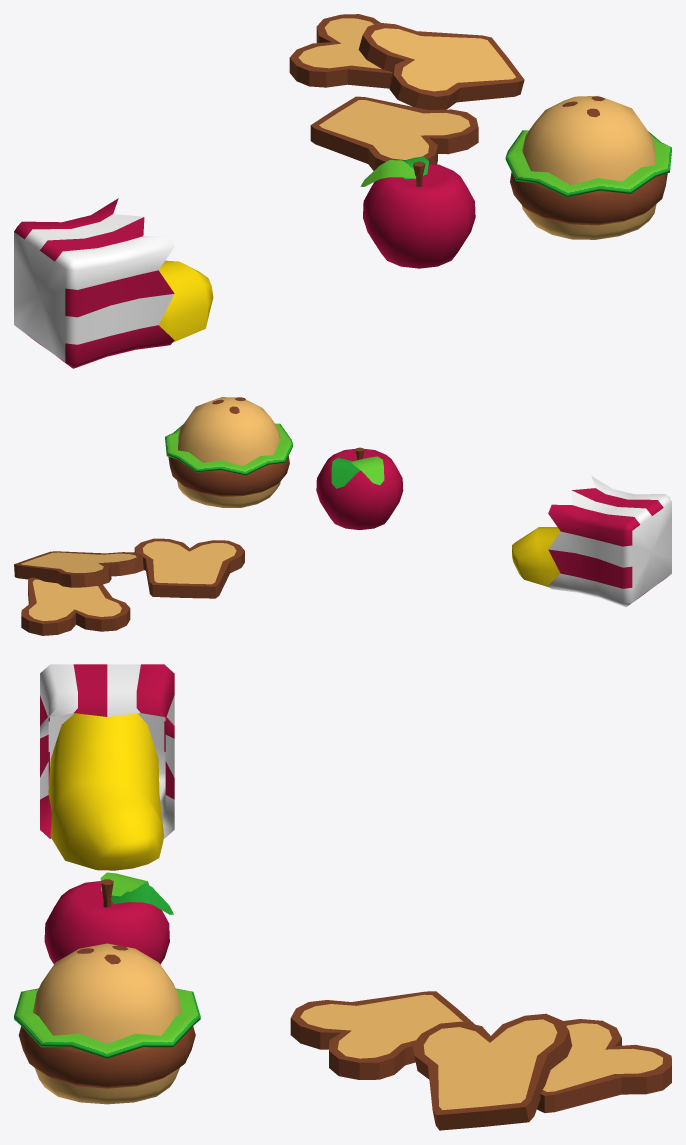
The model's file is mesh_food.fbx.
3 renders of one model, top to bottom at view 1: azimuth 30°, elevation 25°; view 2: azimuth 150°, elevation 25°; view 3: azimuth 270°, elevation 25°, orthographic. The views are drawn at different scales.
Parts seen in each view (by area): view 1: mesh_popcorn, mesh_bread, mesh_burger, mesh_apple; view 2: mesh_popcorn, mesh_bread, mesh_burger, mesh_apple; view 3: mesh_bread, mesh_popcorn, mesh_burger, mesh_apple.
Boxes of the visible parts, x1,y1,x2,y2 form: mesh_popcorn: (14,198,213,368); mesh_bread: (289,14,524,170); mesh_burger: (505,96,671,239); mesh_apple: (360,156,475,268); mesh_popcorn: (512,476,671,607); mesh_bread: (14,538,244,635); mesh_burger: (165,397,292,507); mesh_apple: (316,447,403,529); mesh_bread: (290,991,671,1130); mesh_popcorn: (40,664,174,870); mesh_burger: (14,943,200,1104); mesh_apple: (44,872,173,964).
Bounding box in the file's own units: 2.72 × 0.4927 × 2.17.
1 material, 1 textured.
